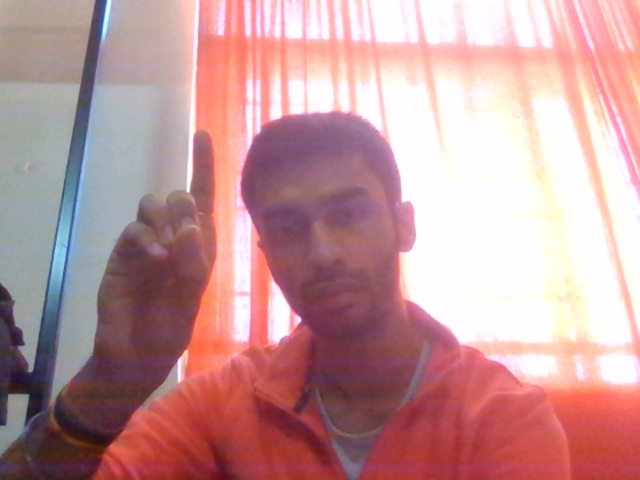D: (90, 112, 227, 428)
